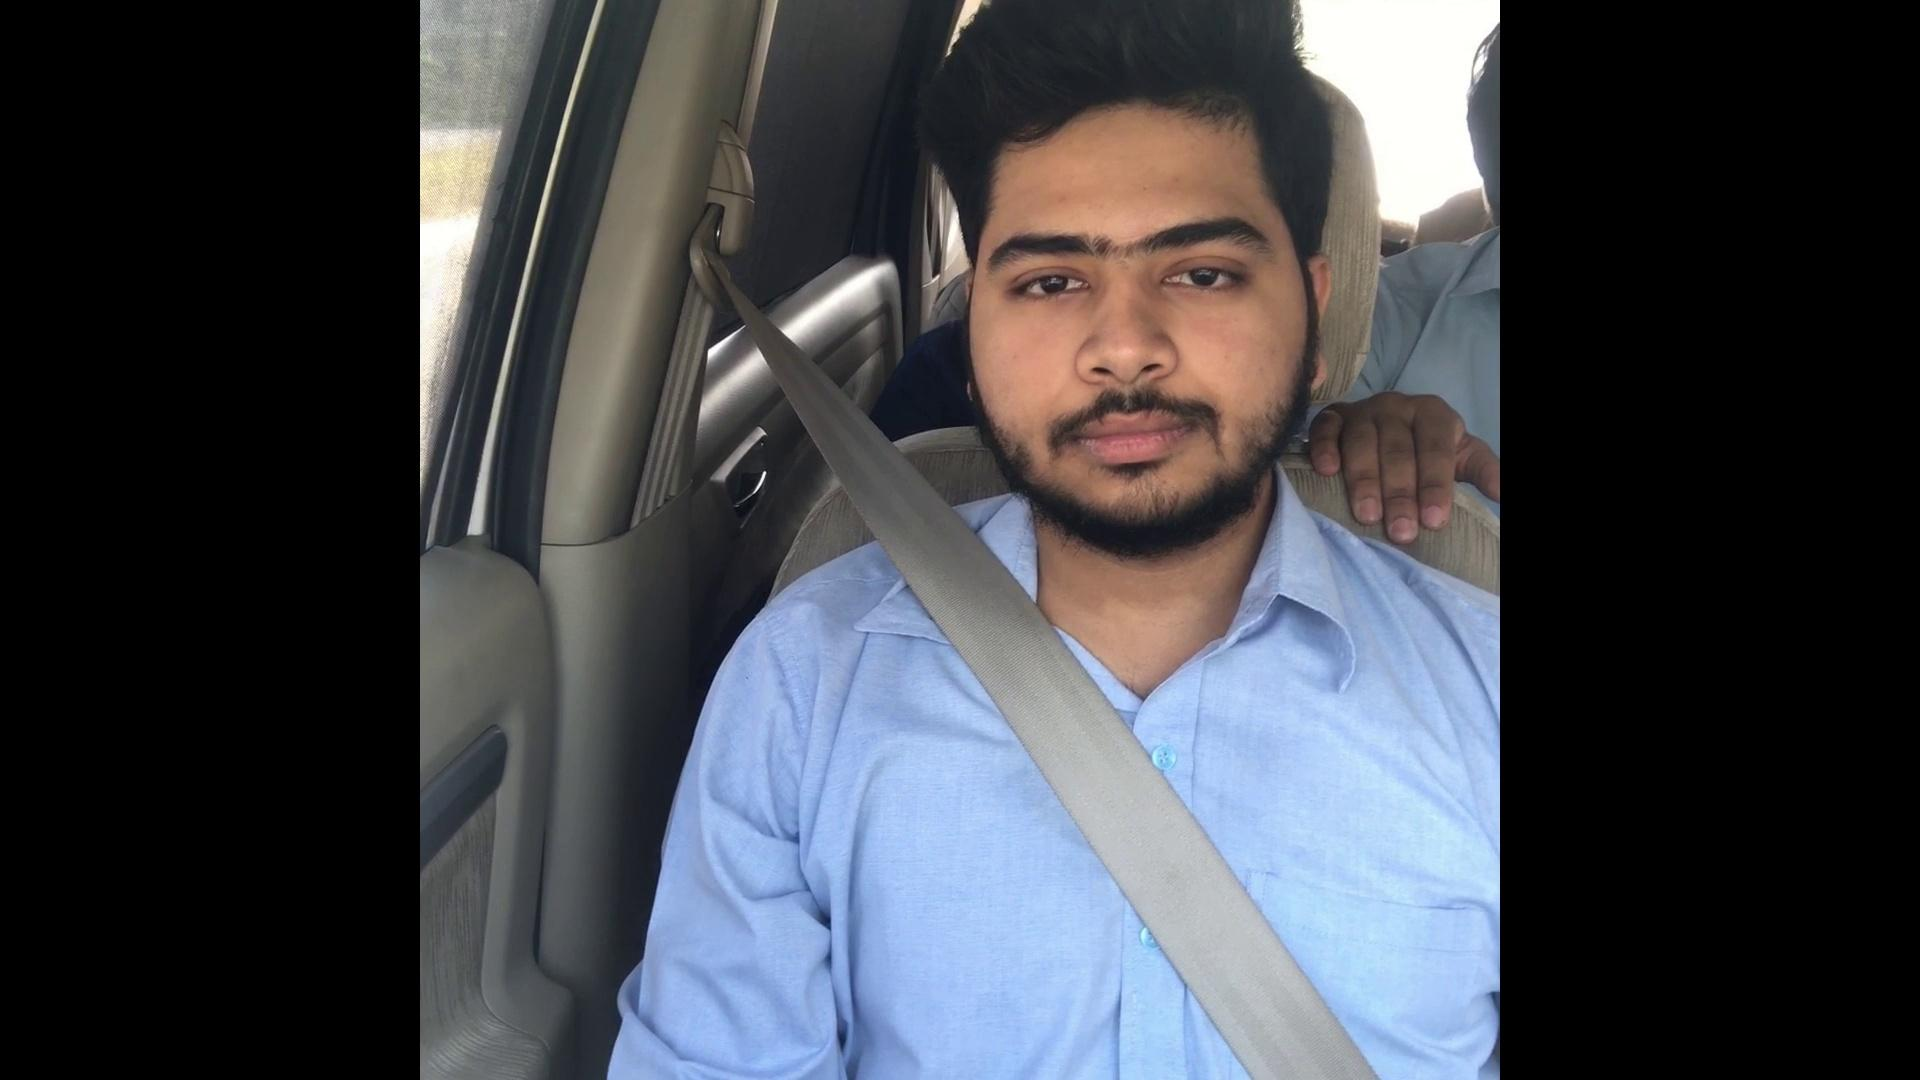Neutral: (963, 157, 1333, 541)
